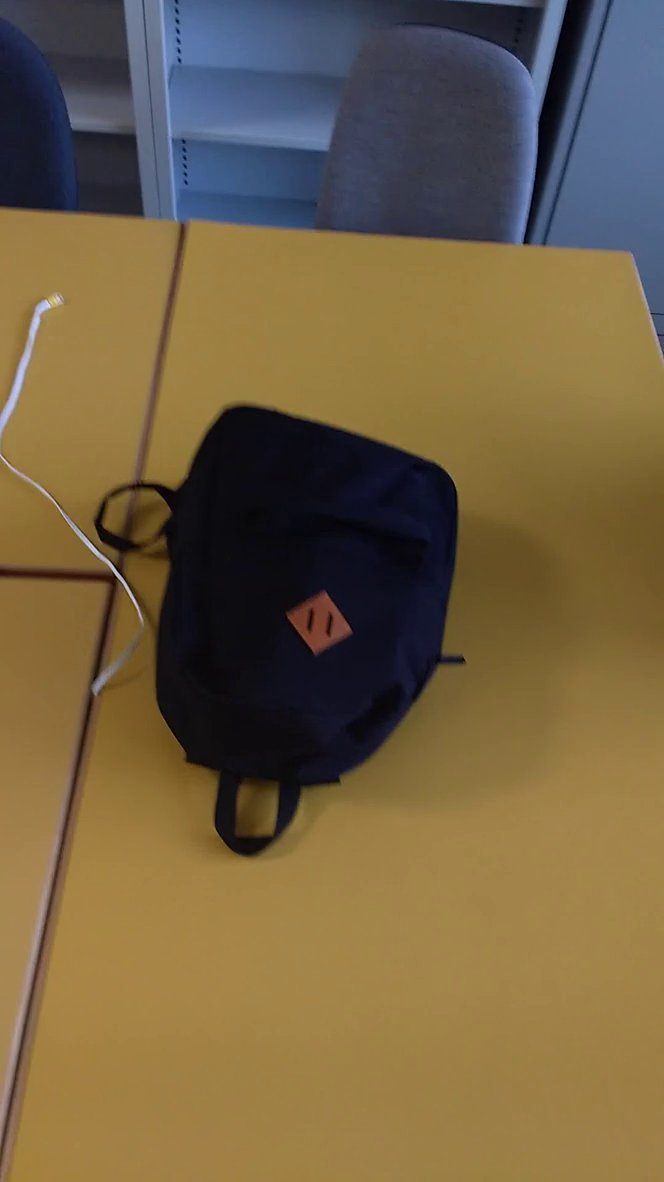bag: (93, 394, 487, 868)
chair: (304, 16, 559, 273)
